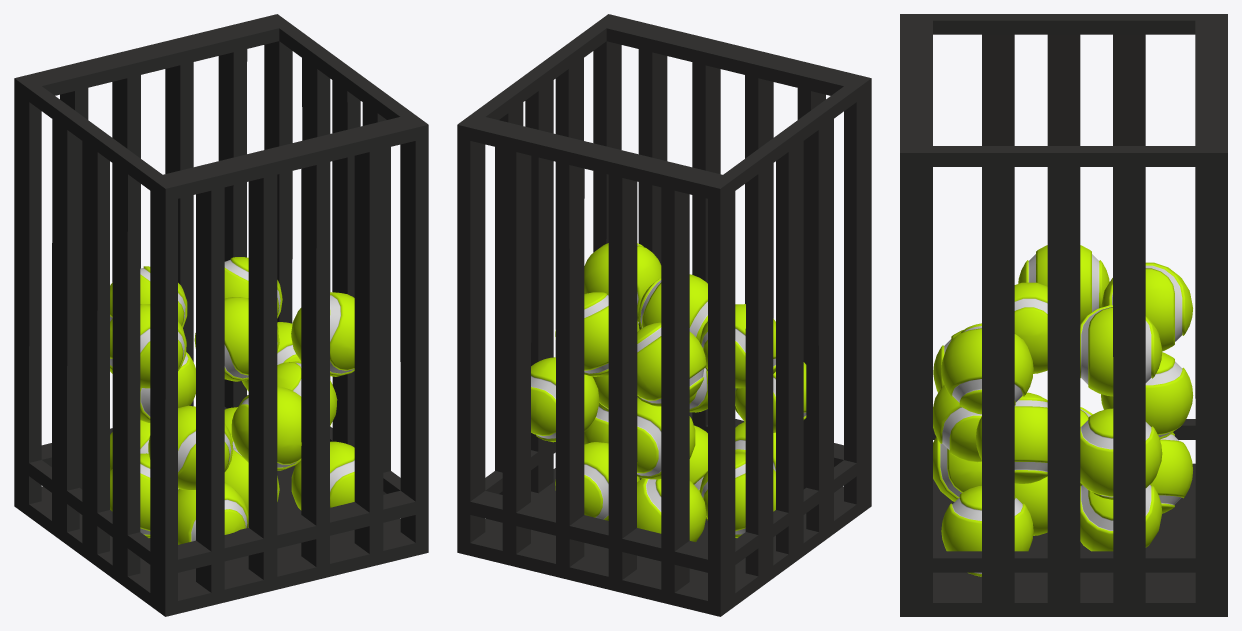
File: ContenedorLlenoPelota.fbx
3 renders of one model, left to right at view 1: azimuth 30°, elevation 25°; view 2: azimuth 150°, elevation 25°; view 3: azimuth 270°, elevation 25°, orthographic. The views are drawn at different scales.
Visible parts, largest first — view 1: contenedor, pelotaTenis6, pelotaTenis12, pelotaTenis11, pelotaTenis2, pelotaTenis16, pelotaTenis8, pelotaTenis13, pelotaTenis9, pelotaTenis15, pelotaTenis3, pelotaTenis1 (+3 smaller); view 2: contenedor, pelotaTenis14, pelotaTenis10, pelotaTenis15, pelotaTenis9, pelotaTenis4, pelotaTenis12, pelotaTenis11, pelotaTenis5, pelotaTenis13, pelotaTenis3, pelotaTenis1 (+2 smaller); view 3: contenedor, pelotaTenis12, pelotaTenis10, pelotaTenis15, pelotaTenis14, pelotaTenis2, pelotaTenis7, pelotaTenis9, pelotaTenis5, pelotaTenis11, pelotaTenis6, pelotaTenis13 (+3 smaller).
Part boxes in pixels (left/top/right/bottom): contenedor: left=14, top=14, right=428, bottom=616; pelotaTenis6: left=231, top=387, right=301, bottom=470; pelotaTenis12: left=291, top=292, right=354, bottom=376; pelotaTenis11: left=194, top=297, right=279, bottom=381; pelotaTenis2: left=291, top=441, right=354, bottom=510; pelotaTenis16: left=178, top=482, right=248, bottom=544; pelotaTenis8: left=148, top=405, right=233, bottom=489; pelotaTenis13: left=110, top=304, right=186, bottom=388; pelotaTenis9: left=140, top=352, right=195, bottom=422; pelotaTenis15: left=224, top=257, right=282, bottom=318; pelotaTenis3: left=110, top=453, right=178, bottom=537; pelotaTenis1: left=224, top=448, right=279, bottom=527; contenedor: left=457, top=14, right=871, bottom=616; pelotaTenis14: left=637, top=322, right=706, bottom=406; pelotaTenis10: left=531, top=357, right=599, bottom=442; pelotaTenis15: left=555, top=292, right=639, bottom=376; pelotaTenis9: left=637, top=398, right=695, bottom=479; pelotaTenis4: left=637, top=478, right=706, bottom=541; pelotaTenis12: left=584, top=243, right=661, bottom=322; pelotaTenis11: left=638, top=274, right=707, bottom=341; pelotaTenis5: left=555, top=442, right=639, bottom=520; pelotaTenis13: left=699, top=304, right=775, bottom=388; pelotaTenis3: left=699, top=453, right=775, bottom=537; pelotaTenis1: left=640, top=425, right=707, bottom=490; contenedor: left=900, top=14, right=1227, bottom=616; pelotaTenis12: left=941, top=323, right=1033, bottom=414; pelotaTenis10: left=1080, top=408, right=1162, bottom=499; pelotaTenis15: left=1080, top=305, right=1162, bottom=396; pelotaTenis14: left=1101, top=262, right=1192, bottom=351; pelotaTenis2: left=941, top=486, right=1033, bottom=576; pelotaTenis7: left=976, top=392, right=1047, bottom=483; pelotaTenis9: left=1101, top=352, right=1193, bottom=439; pelotaTenis5: left=1080, top=485, right=1162, bottom=551; pelotaTenis11: left=1014, top=282, right=1047, bottom=373; pelotaTenis6: left=933, top=385, right=981, bottom=462; pelotaTenis13: left=1018, top=245, right=1109, bottom=322.
Bounding box in the file's own units: 399 × 619 × 397.
